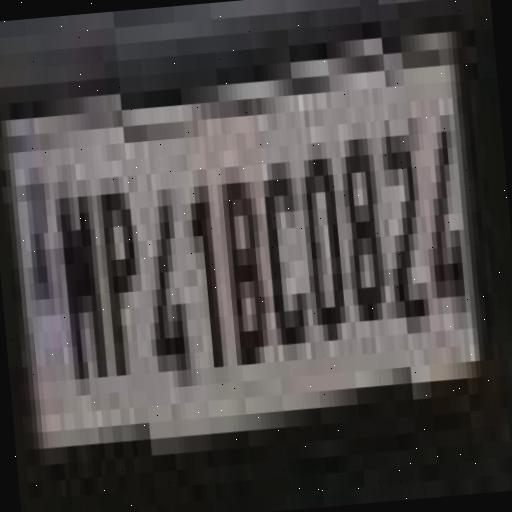number plate: (0, 47, 502, 484)
